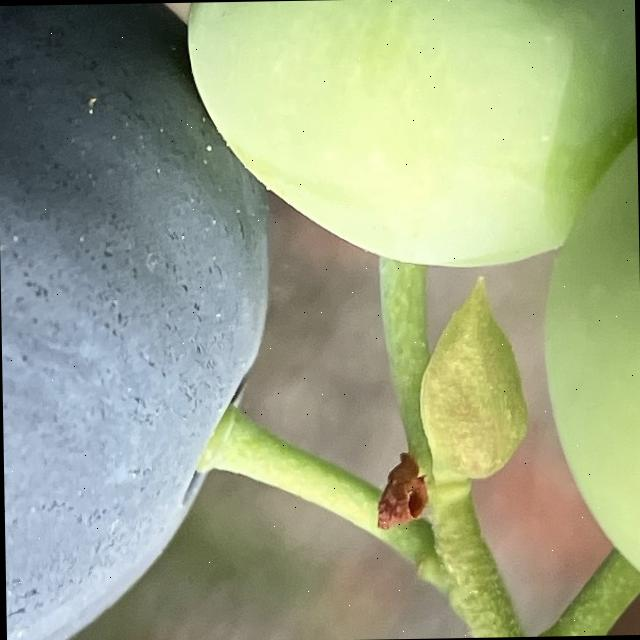Blueberries: (0, 0, 282, 640), (184, 0, 639, 278)
